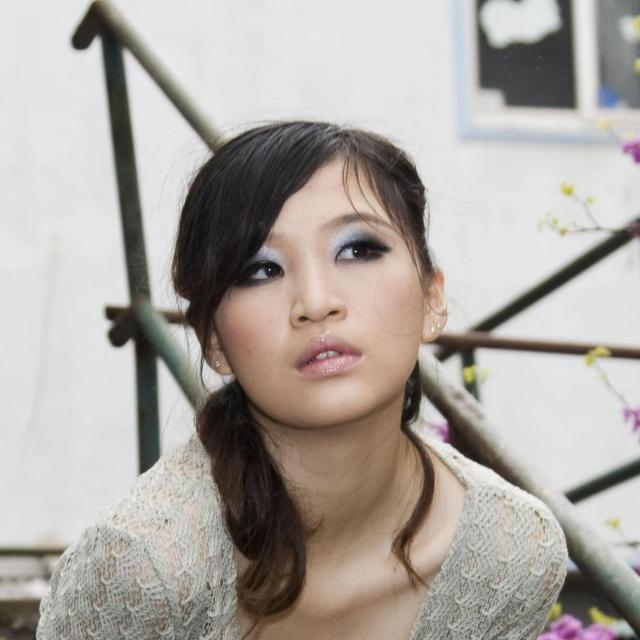no-glass: (240, 238, 392, 290)
